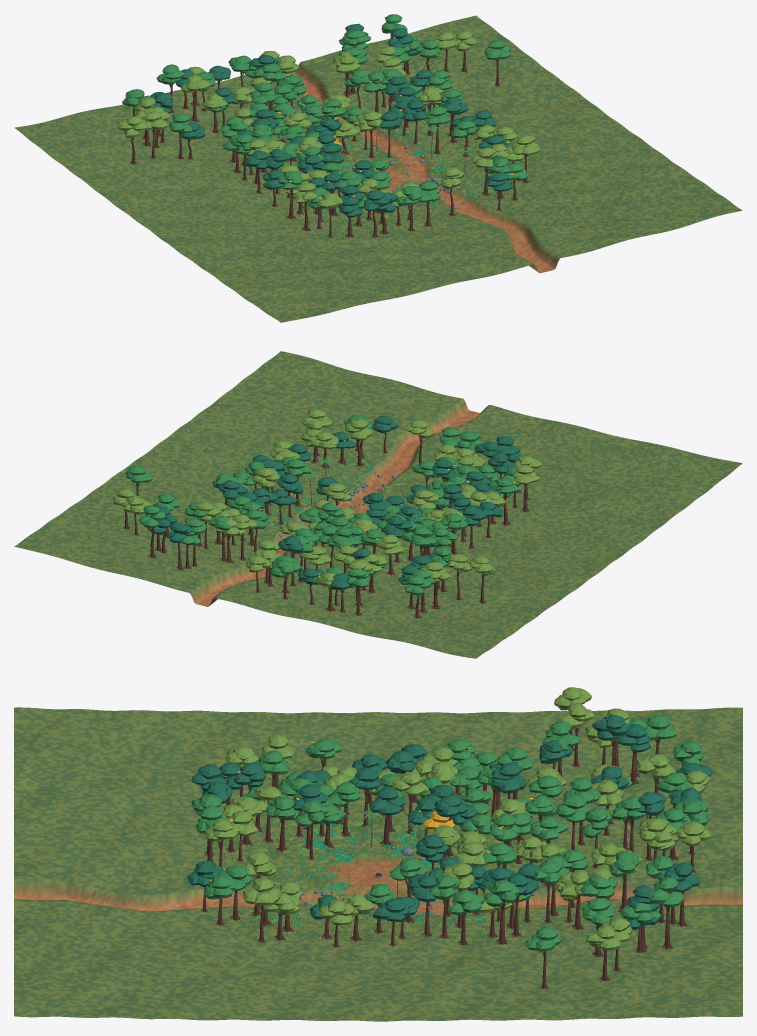
The model's file is clareira_1500.glb.
3 renders of one model, top to bottom at view 1: azimuth 30°, elevation 25°; view 2: azimuth 150°, elevation 25°; view 3: azimuth 270°, elevation 25°, orthographic. The views are drawn at different scales.
Visible parts, largest first — view 1: Solo_TerraViva, Copas_Esmeralda, Copas_Lima, Copas_Jade, Troncos, Capim, Raizes, Folhas_Largas; view 2: Solo_TerraViva, Copas_Esmeralda, Copas_Lima, Copas_Jade, Troncos, Capim, Raizes; view 3: Solo_TerraViva, Copas_Esmeralda, Copas_Lima, Copas_Jade, Troncos, Capim, Raizes, Folhas_Largas, Samambaias, Palmeiras_Folhas.
Part boxes in pixels (x1=…): Solo_TerraViva: x1=14, y1=15, x2=742, y2=322; Copas_Esmeralda: x1=122, y1=14, x2=527, y2=209; Copas_Lima: x1=117, y1=31, x2=539, y2=208; Copas_Jade: x1=150, y1=23, x2=513, y2=217; Troncos: x1=131, y1=31, x2=526, y2=237; Capim: x1=222, y1=119, x2=532, y2=240; Raizes: x1=130, y1=69, x2=528, y2=237; Folhas_Largas: x1=278, y1=130, x2=493, y2=224; Solo_TerraViva: x1=14, y1=351, x2=742, y2=658; Copas_Esmeralda: x1=125, y1=415, x2=521, y2=595; Copas_Lima: x1=113, y1=409, x2=542, y2=589; Copas_Jade: x1=146, y1=415, x2=522, y2=590; Troncos: x1=125, y1=418, x2=528, y2=618; Capim: x1=246, y1=448, x2=533, y2=571; Raizes: x1=123, y1=449, x2=530, y2=618; Solo_TerraViva: x1=14, y1=707, x2=742, y2=1021; Copas_Esmeralda: x1=191, y1=714, x2=709, y2=951; Copas_Lima: x1=204, y1=687, x2=711, y2=950; Copas_Jade: x1=187, y1=714, x2=712, y2=929; Troncos: x1=203, y1=727, x2=694, y2=988; Capim: x1=222, y1=803, x2=535, y2=939; Raizes: x1=201, y1=747, x2=696, y2=988; Folhas_Largas: x1=259, y1=822, x2=487, y2=925; Samambaias: x1=254, y1=818, x2=494, y2=925; Palmeiras_Folhas: x1=319, y1=773, x2=472, y2=897.
Size of the model in its own units: 200 by 25.37 by 200.
